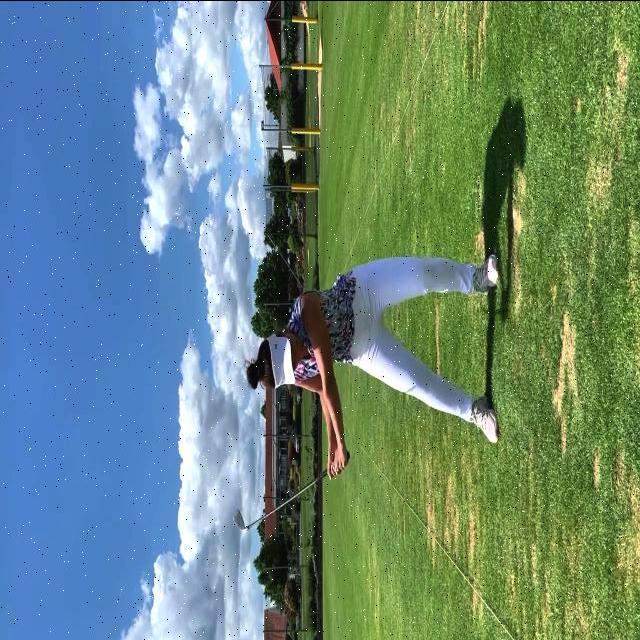ClubHandle: (232, 447, 351, 533)
ClubHead: (234, 508, 244, 530)
